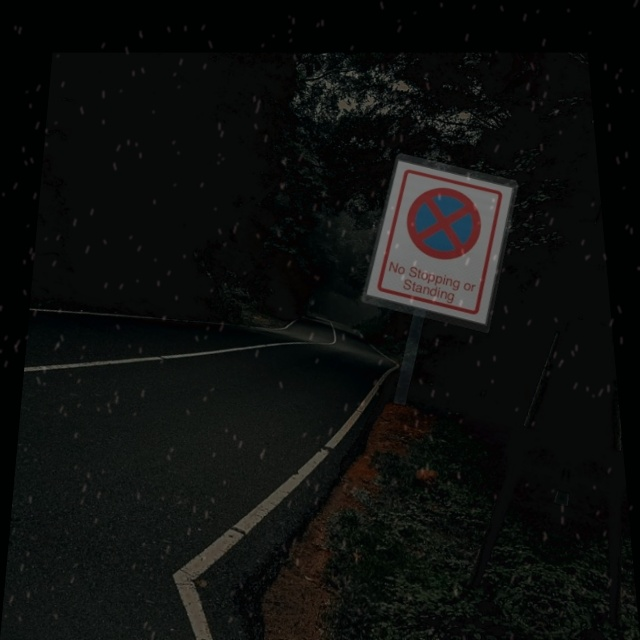No_Stopping_or_Standing: (387, 172, 501, 279)
